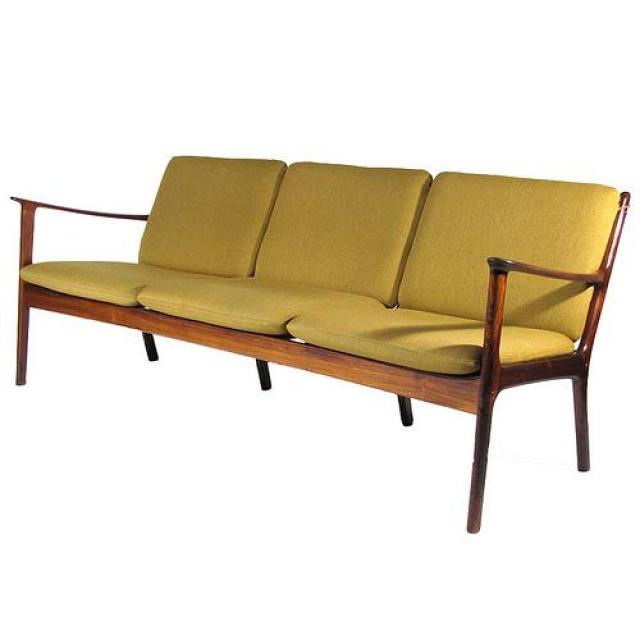sofa: (9, 152, 631, 533)
